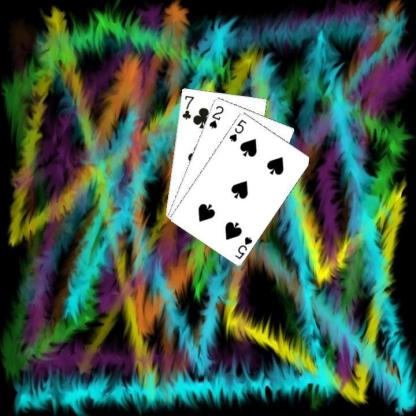2S: (206, 103, 225, 129)
5S: (226, 116, 248, 142), (232, 234, 254, 260)
7C: (180, 92, 195, 121)
